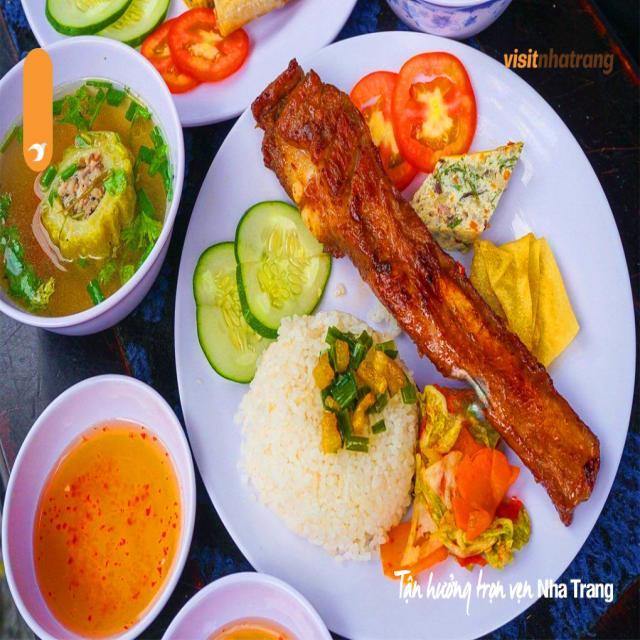ca chua: (393, 52, 476, 172)
com: (235, 311, 419, 558)
dua leo: (235, 201, 329, 329), (193, 243, 270, 382)
kho qua: (41, 131, 138, 262)
nuoc mam: (33, 426, 181, 637)
